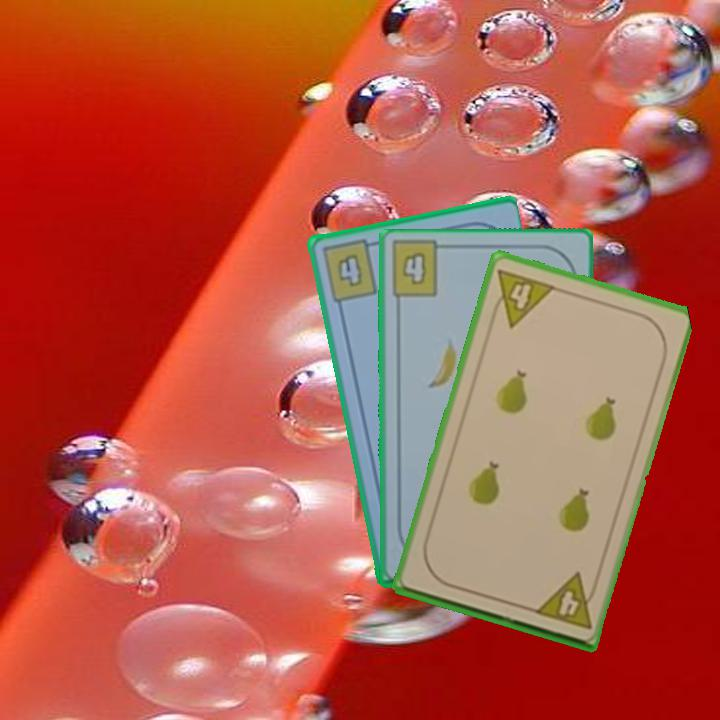4b: (318, 236, 381, 305), (398, 248, 429, 287)
4p: (486, 264, 558, 330), (530, 569, 601, 632)
